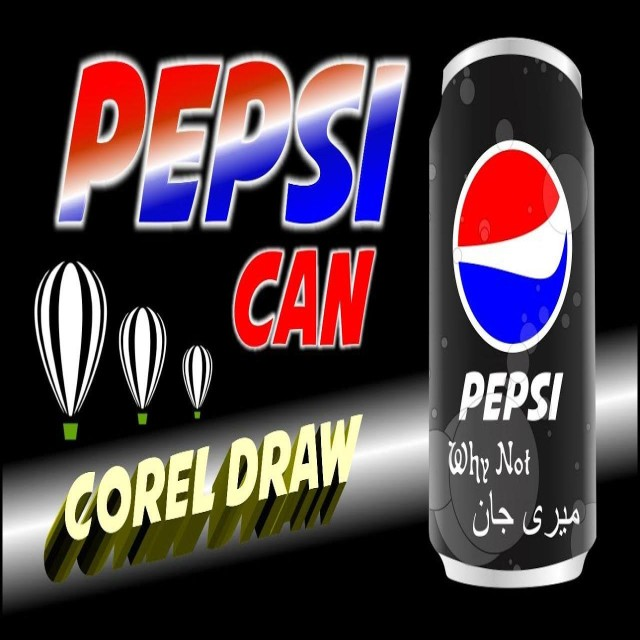pepsi: (450, 135, 575, 358)
